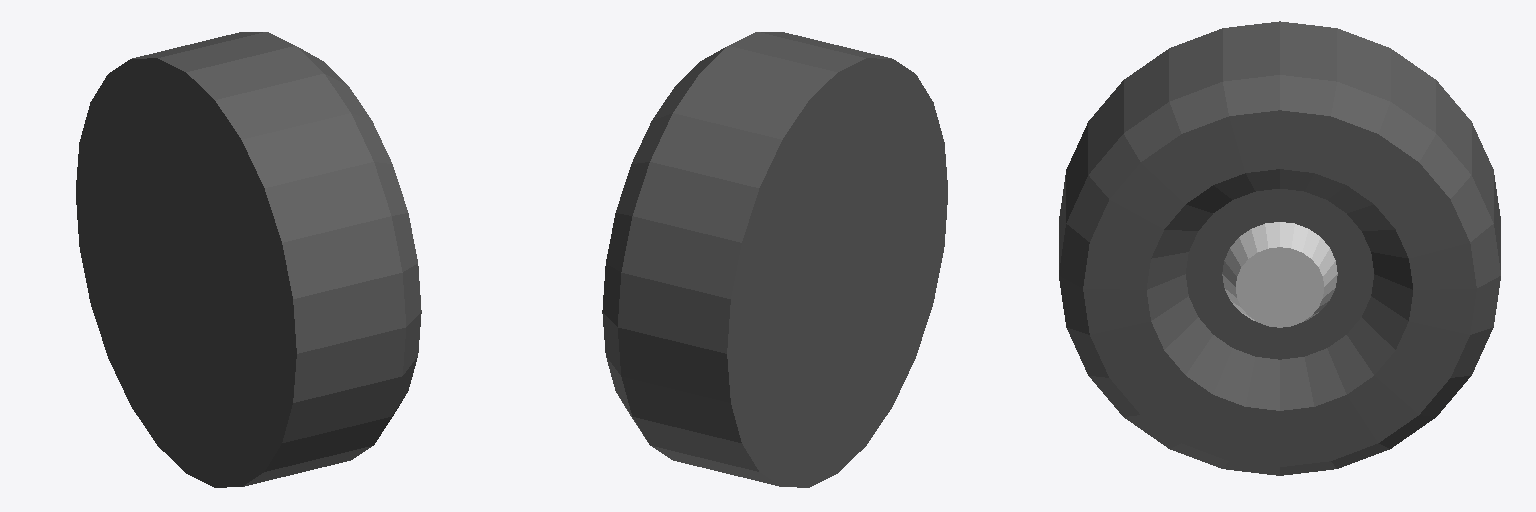
File: wheelBlack.obj
3 views of the same model, side by side, from view 1: azimuth 30°, elevation 25°; view 2: azimuth 150°, elevation 25°; view 3: azimuth 270°, elevation 25° (orthographic).
Parts seen in each view (by area): view 1: wheelBlack; view 2: wheelBlack; view 3: wheelBlack.
Boxes of the visible parts, box(x1,y1,x2,y2) form: wheelBlack: box(76, 32, 421, 487); wheelBlack: box(602, 32, 947, 487); wheelBlack: box(1059, 21, 1500, 475).
Bounding box in the file's own units: 1.63 × 4.48 × 4.48.